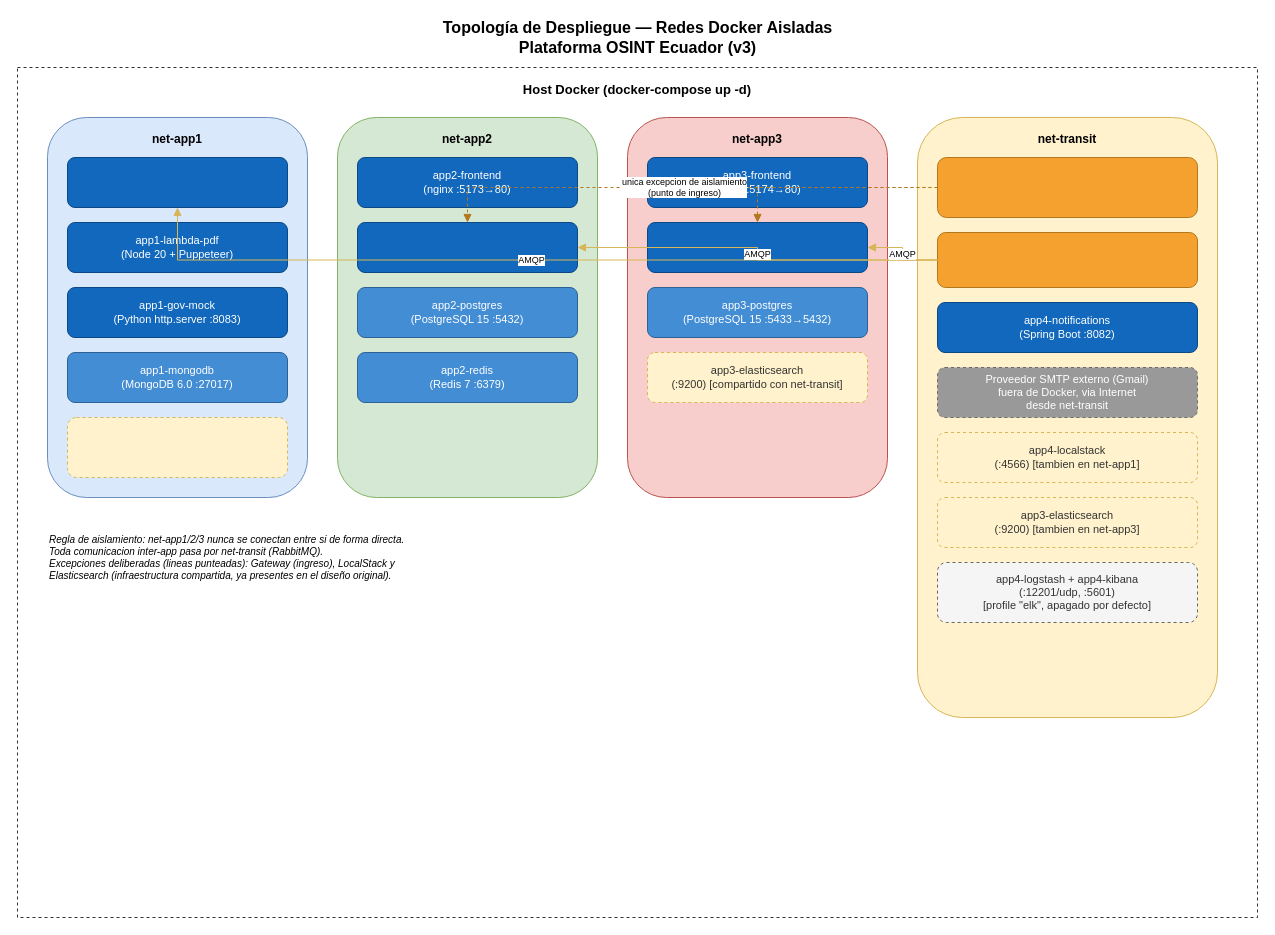
The diagram is 1275 pixels wide and 935 high, and some of its shapes have lost their labels. The centre of each missing label's shape, as x and y in pixels:
"app1-worker (Python 3.11)" goes at (x=177, y=182).
"app2-backend (Spring Boot :8080)" goes at (x=467, y=247).
"app3-backend (Spring Boot :8081)" goes at (x=757, y=247).
"app4-gateway (NGINX :80,:443) [tambien en net-app2 y net-app3]" goes at (x=1067, y=187).
"app4-localstack (LocalStack S3 :4566) [compartido con net-transit]" goes at (x=177, y=447).
"app4-rabbitmq (:5672 AMQP, :15672 UI)" goes at (x=1067, y=260).
